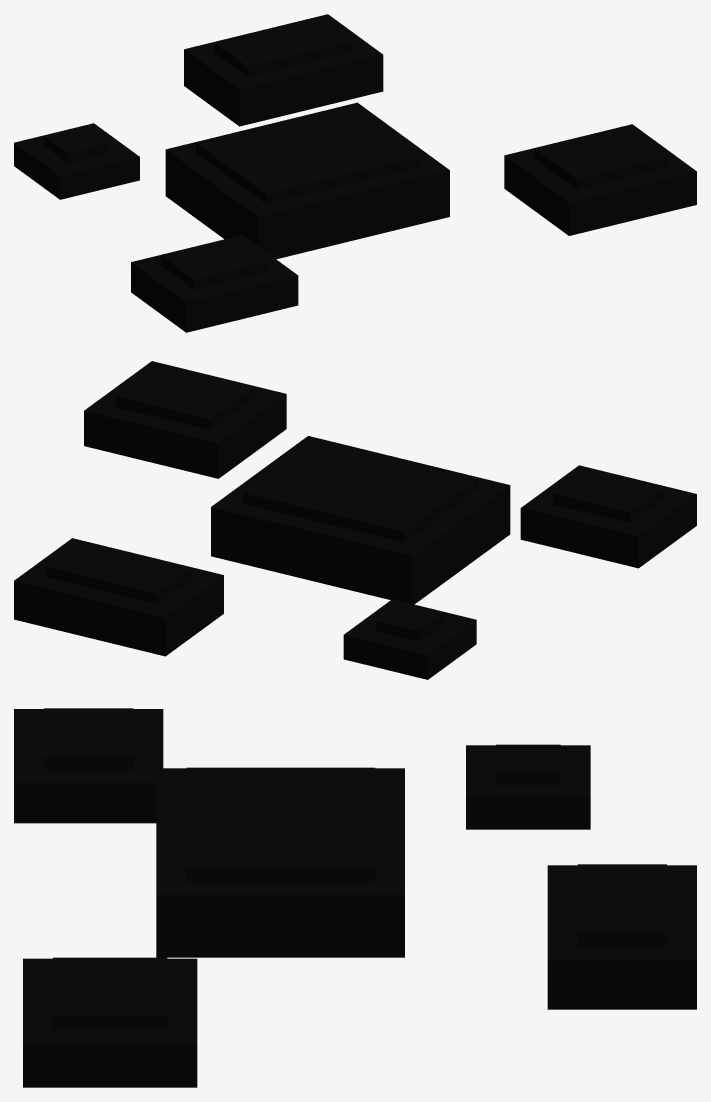
Rendered from BasaltFlatStones.obj.
The picture shows the model from 3 angles, top to bottom: view 1: azimuth 30°, elevation 25°; view 2: azimuth 150°, elevation 25°; view 3: azimuth 270°, elevation 25°; orthographic projection. The views are drawn at different scales.
Parts seen in each view (by area): view 1: BasaltFlatStones; view 2: BasaltFlatStones; view 3: BasaltFlatStones.
Boxes of the visible parts, x1,y1,x2,y2 form: BasaltFlatStones: [14, 14, 696, 332]; BasaltFlatStones: [14, 361, 696, 679]; BasaltFlatStones: [14, 708, 696, 1087].
Bounding box in the file's own units: 16.08 × 1.7 × 13.73.
